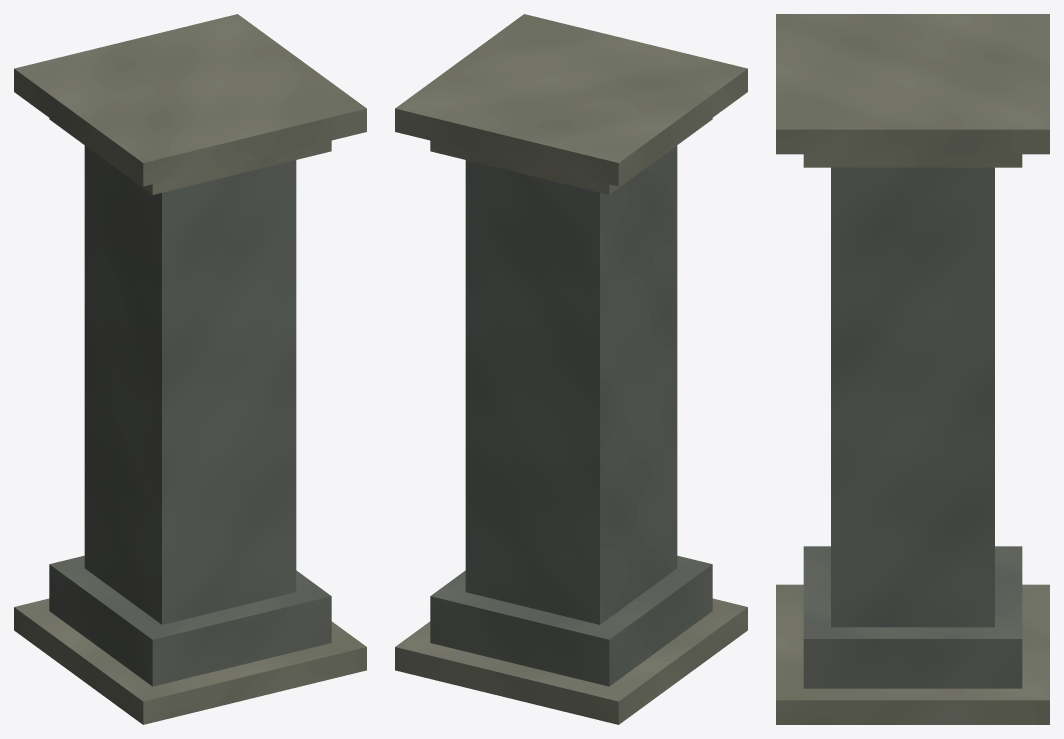
Rendered from PILLAR_A.glb.
3 renders of one model, left to right at view 1: azimuth 30°, elevation 25°; view 2: azimuth 150°, elevation 25°; view 3: azimuth 270°, elevation 25°, orthographic. The views are drawn at different scales.
Visible parts, largest first — view 1: PILLAR_A; view 2: PILLAR_A; view 3: PILLAR_A.
Boxes of the visible parts, x1,y1,x2,y2 form: PILLAR_A: (14, 14, 366, 724); PILLAR_A: (395, 14, 747, 724); PILLAR_A: (776, 14, 1049, 724).
Size of the model in its own units: 1.25 by 3 by 1.25.
Materials: 2 (2 with a texture image).
